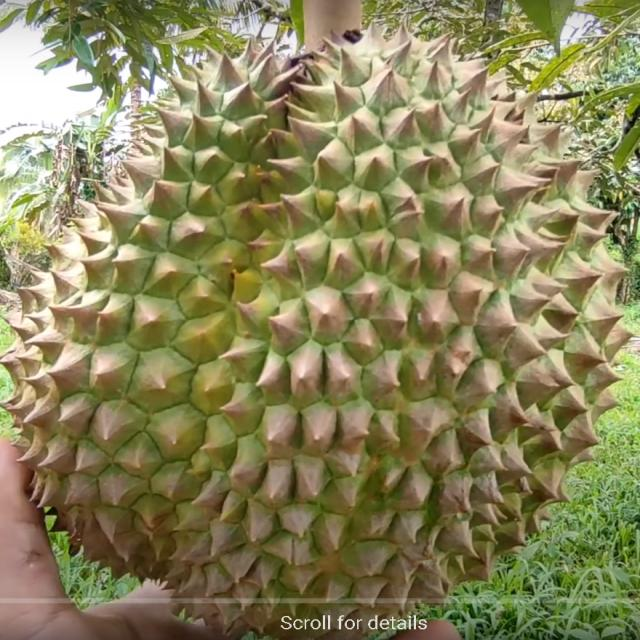mature: (1, 24, 640, 600)
